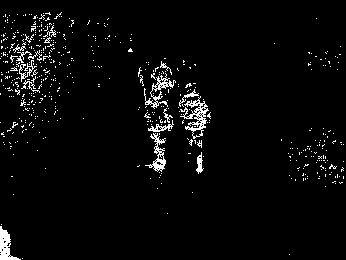person: (176, 77, 214, 180), (138, 88, 174, 178)
